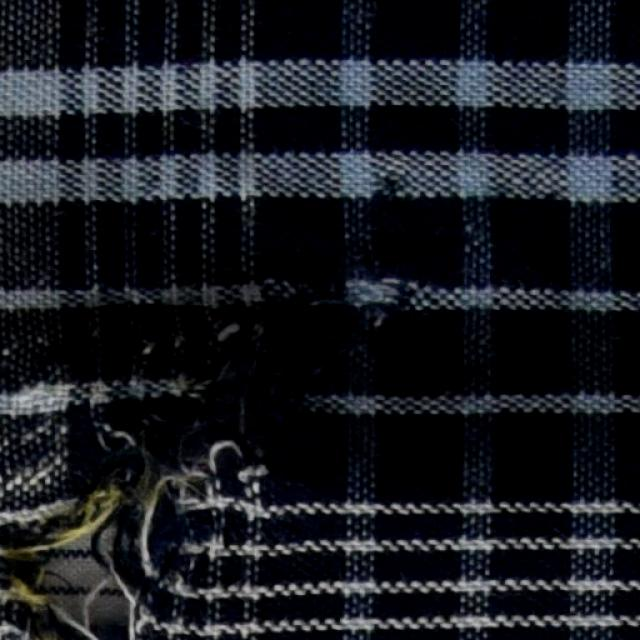Hole: (56, 551, 139, 624)
Snag: (100, 338, 313, 563)
Stain: (0, 480, 119, 632)
